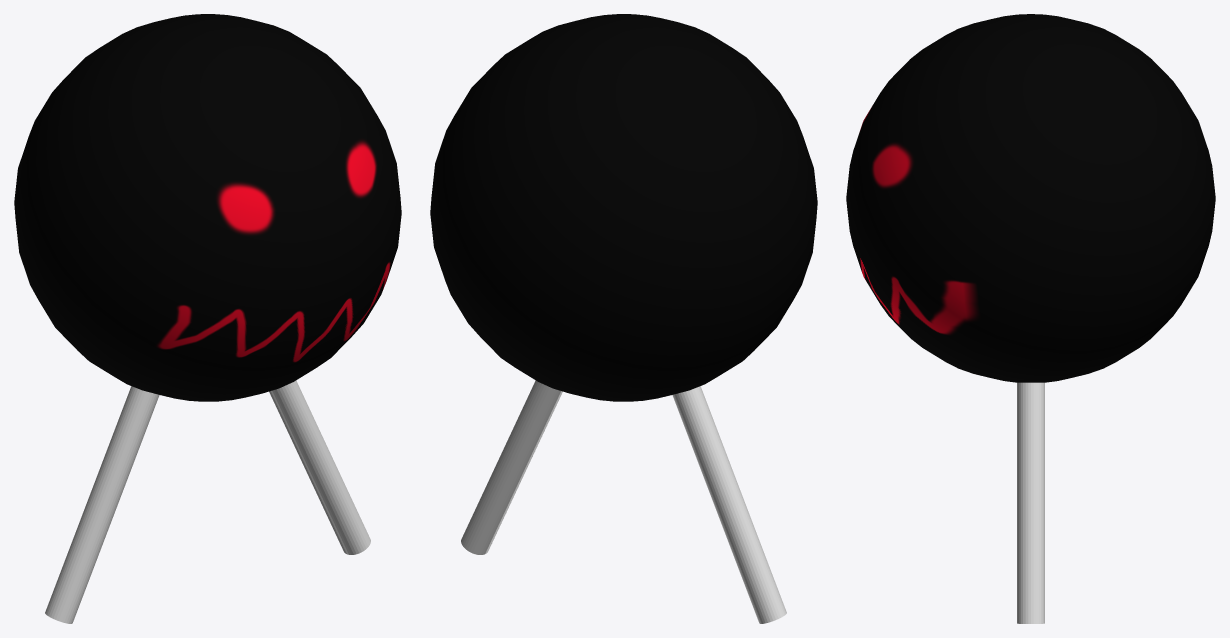
File: Monster2.fbx
3 views of the same model, side by side, from view 1: azimuth 30°, elevation 25°; view 2: azimuth 150°, elevation 25°; view 3: azimuth 270°, elevation 25° (orthographic). The views are drawn at different scales.
Parts seen in each view (by area): view 1: 球体, 柱体; view 2: 球体, 柱体; view 3: 球体, 柱体.
Part boxes in pixels (x1,y1,x2,y2): 球体: (14, 14, 401, 401); 柱体: (45, 380, 370, 623); 球体: (430, 14, 817, 401); 柱体: (461, 380, 786, 623); 球体: (846, 14, 1215, 382); 柱体: (1017, 382, 1044, 623).
Bounding box in the file's own units: 2 × 3.15 × 2.
Materials: 1 (1 with a texture image).
